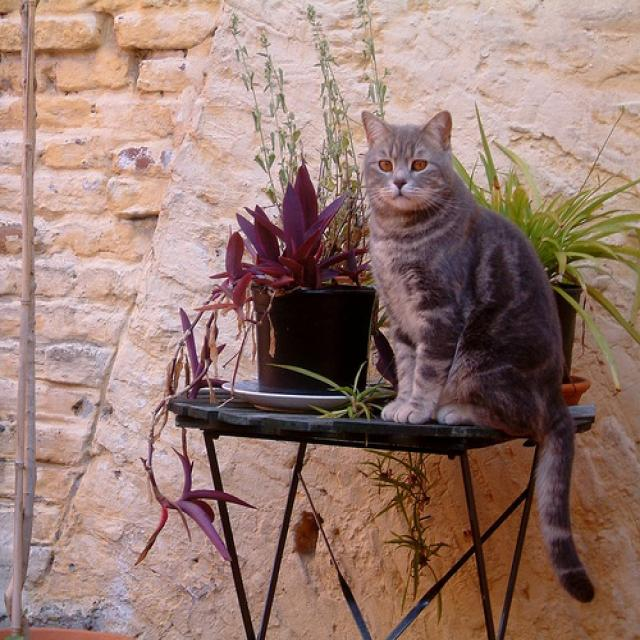cat: (360, 109, 597, 604)
